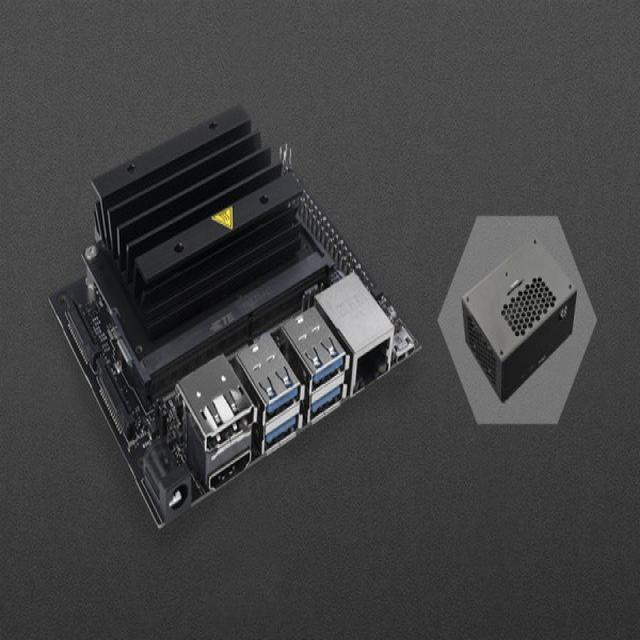Jetson Nano: (48, 103, 423, 530)
